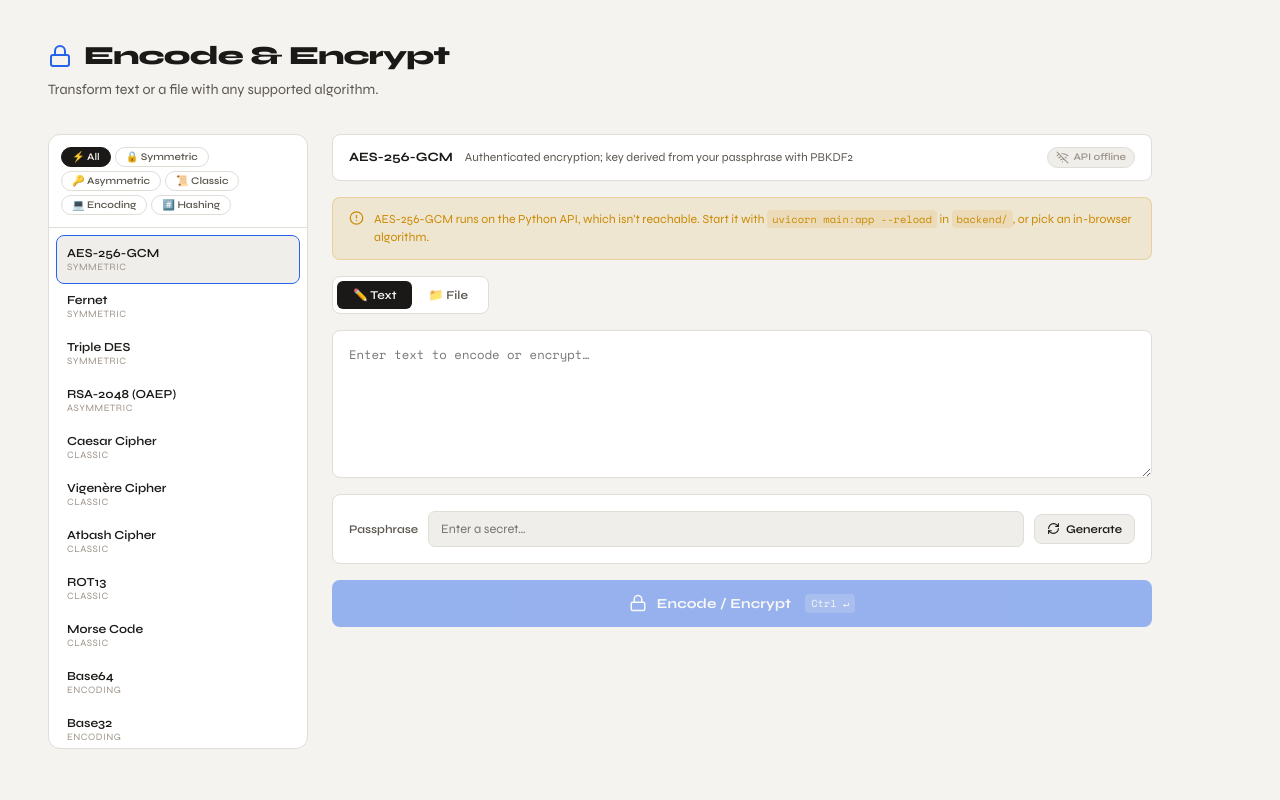
Scenario: EncoderDecoder › shows a clear error when the API is needed but offline
Expected: the text "isn't reachable" is shown, [453, 212, 764, 226]
Step 1. Type "secret" into the text box labelled "text to encode" → [742, 404], box [332, 330, 1152, 478]
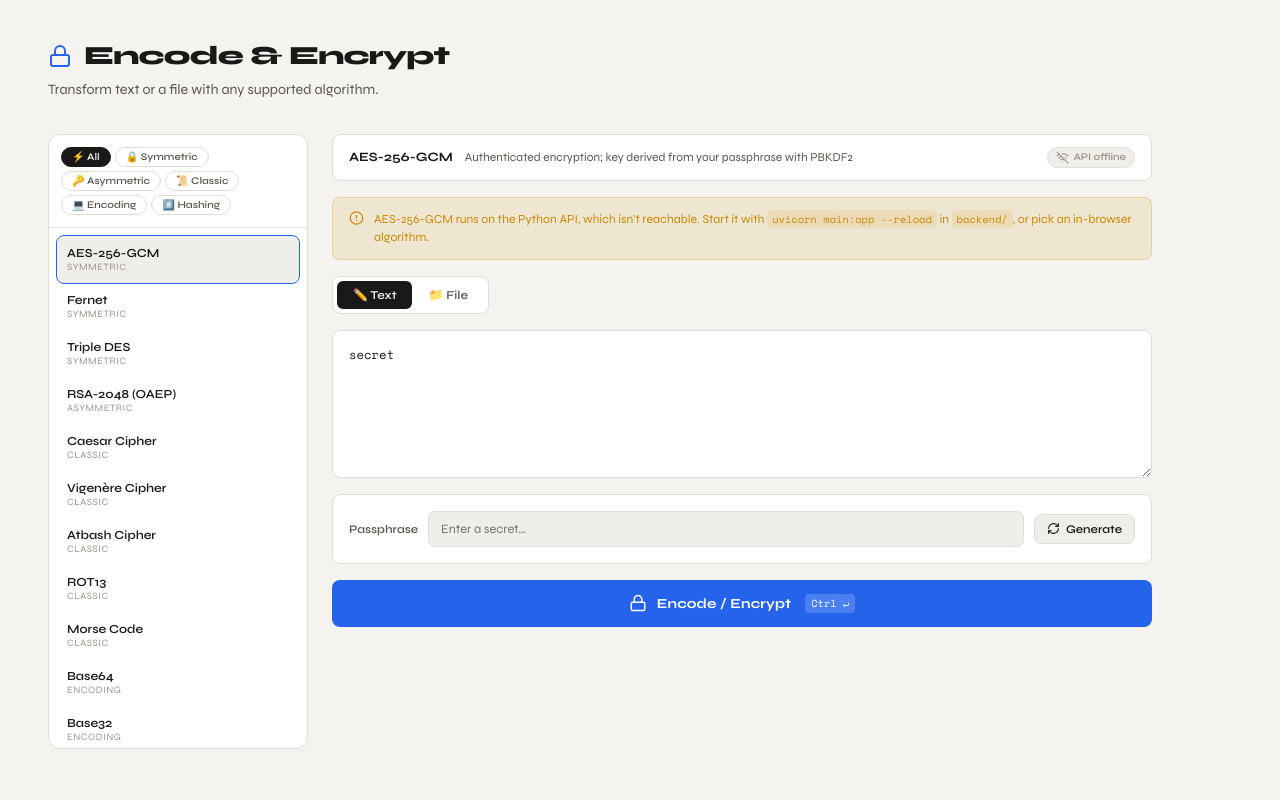
Step 2. Type "pw" into the field labelled "Passphrase" → [726, 529], box [428, 511, 1024, 547]
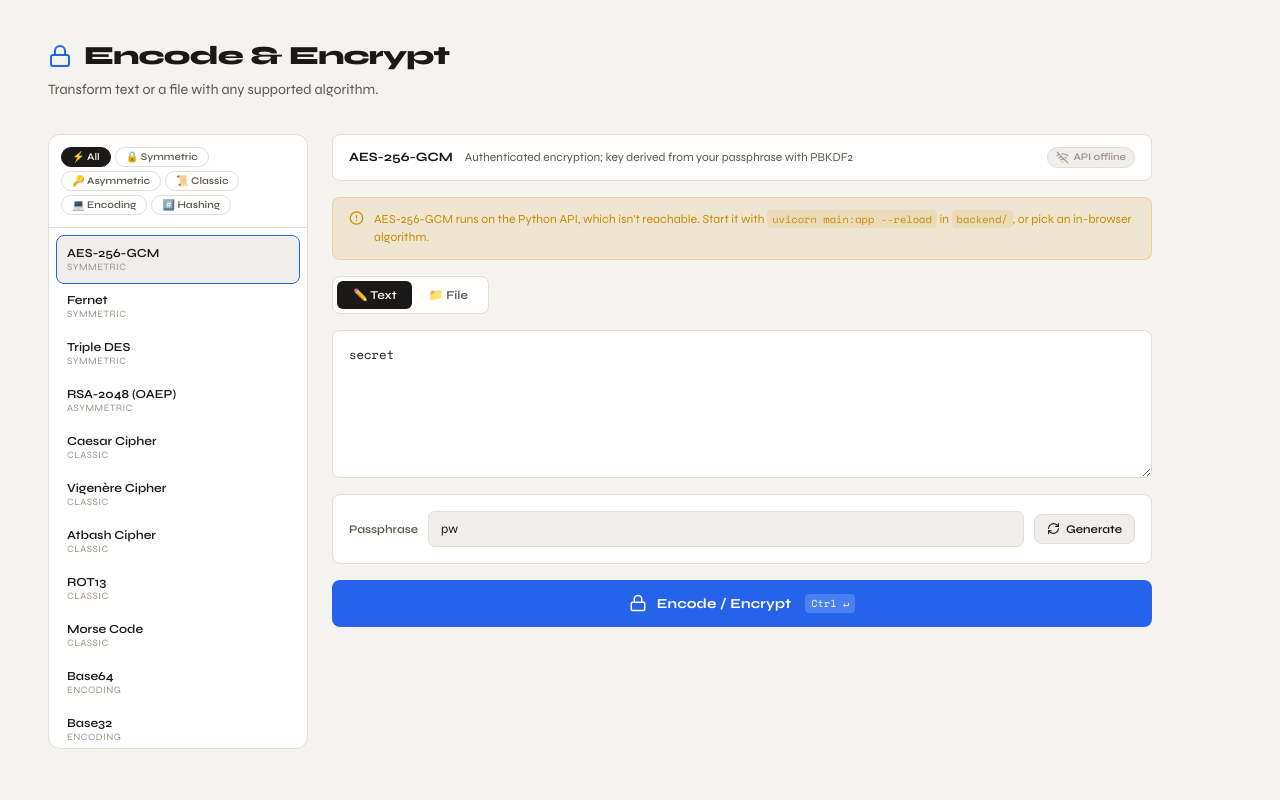
Step 3. Click the button "Encode / Encrypt Ctrl ↵" → [742, 603], box [332, 580, 1152, 627]
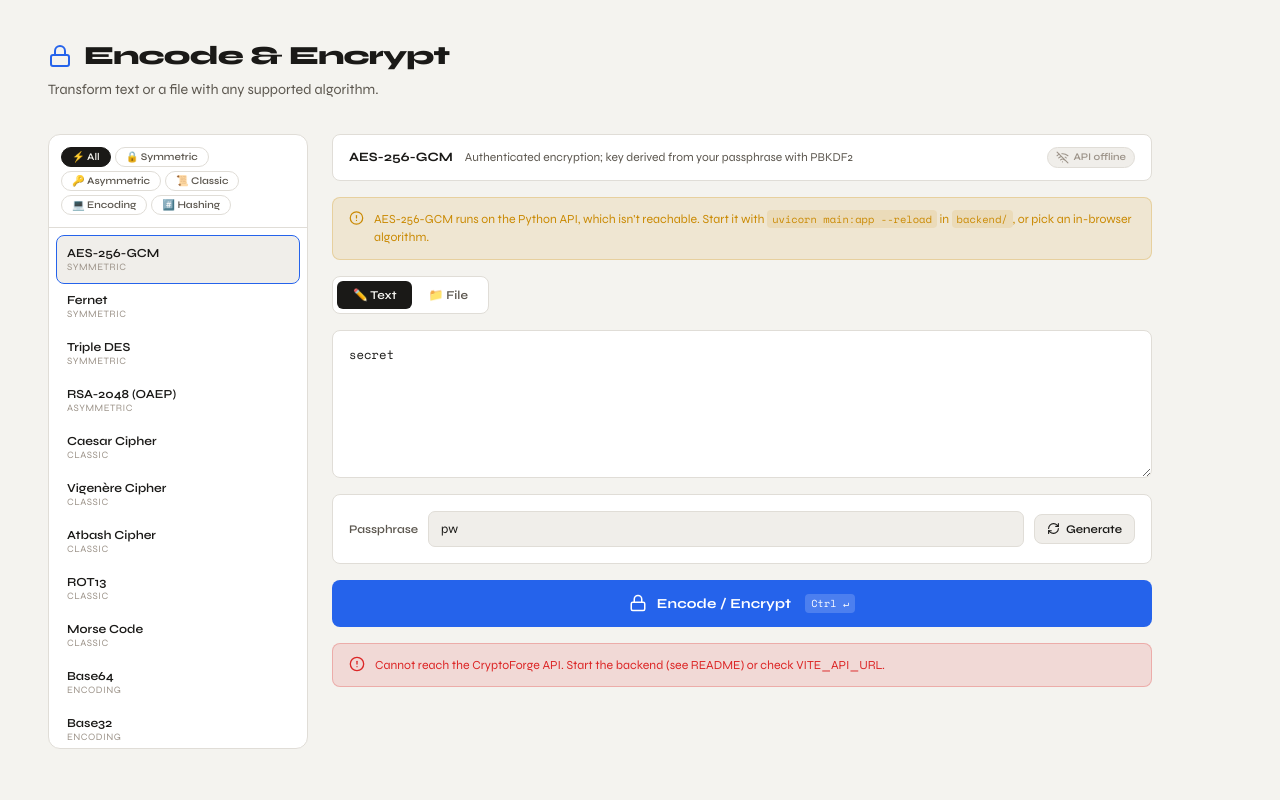
Expected: the message shows "Cannot reach the CryptoForge API", [375, 658, 885, 672]
